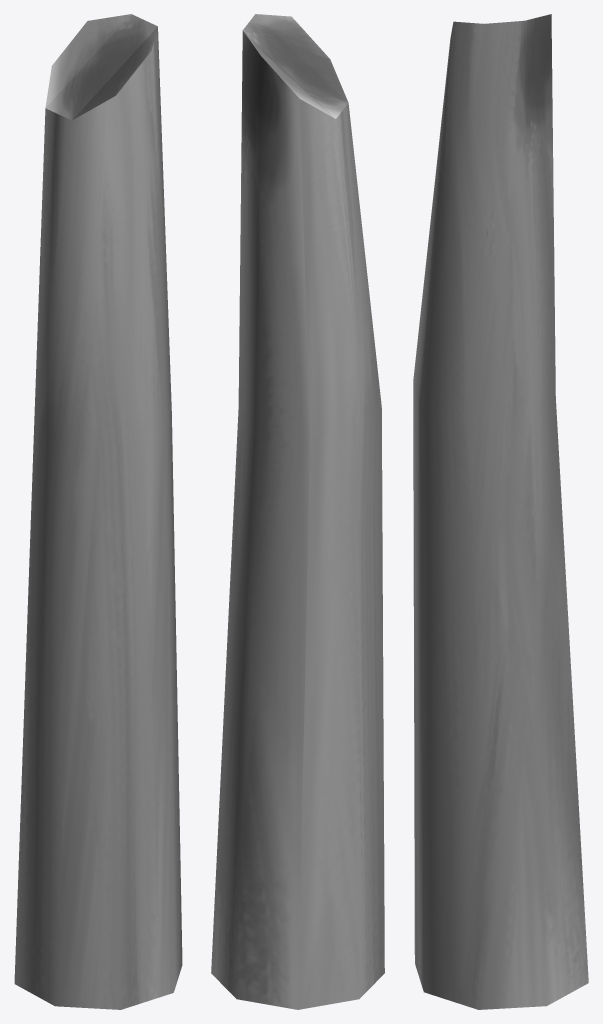
File: env_tree_spruce_dead_04.fbx
3 renders of one model, left to right at view 1: azimuth 30°, elevation 25°; view 2: azimuth 150°, elevation 25°; view 3: azimuth 270°, elevation 25°, orthographic. The views are drawn at different scales.
Parts seen in each view (by area): view 1: env_tree_dead_235235; view 2: env_tree_dead_235235; view 3: env_tree_dead_235235.
Boxes of the visible parts, <box> form: env_tree_dead_235235: <box>14,14,182,1009</box>; env_tree_dead_235235: <box>211,14,384,1009</box>; env_tree_dead_235235: <box>413,14,588,1009</box>.
Size of the model in its own units: 22.62 by 140 by 22.83.
1 material, 1 textured.
